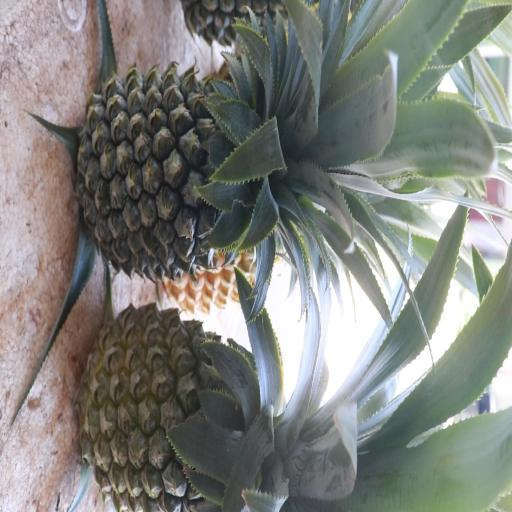------------------------------: (86, 299, 288, 505)
